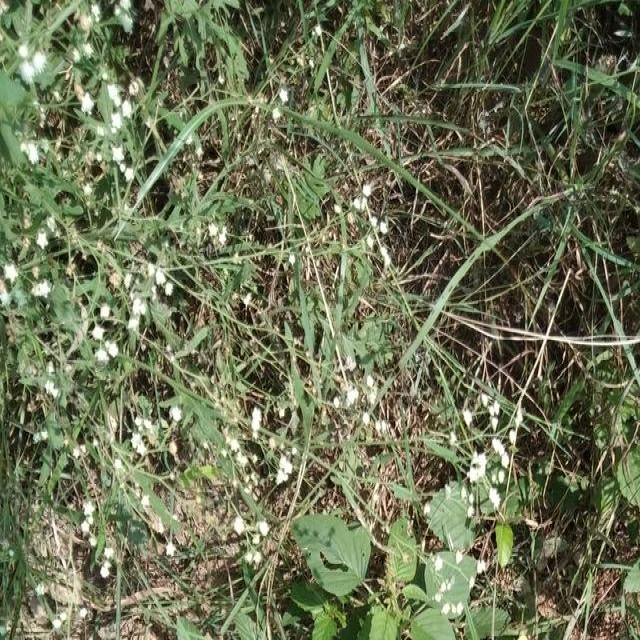weed: (8, 104, 194, 532), (288, 538, 488, 628)
